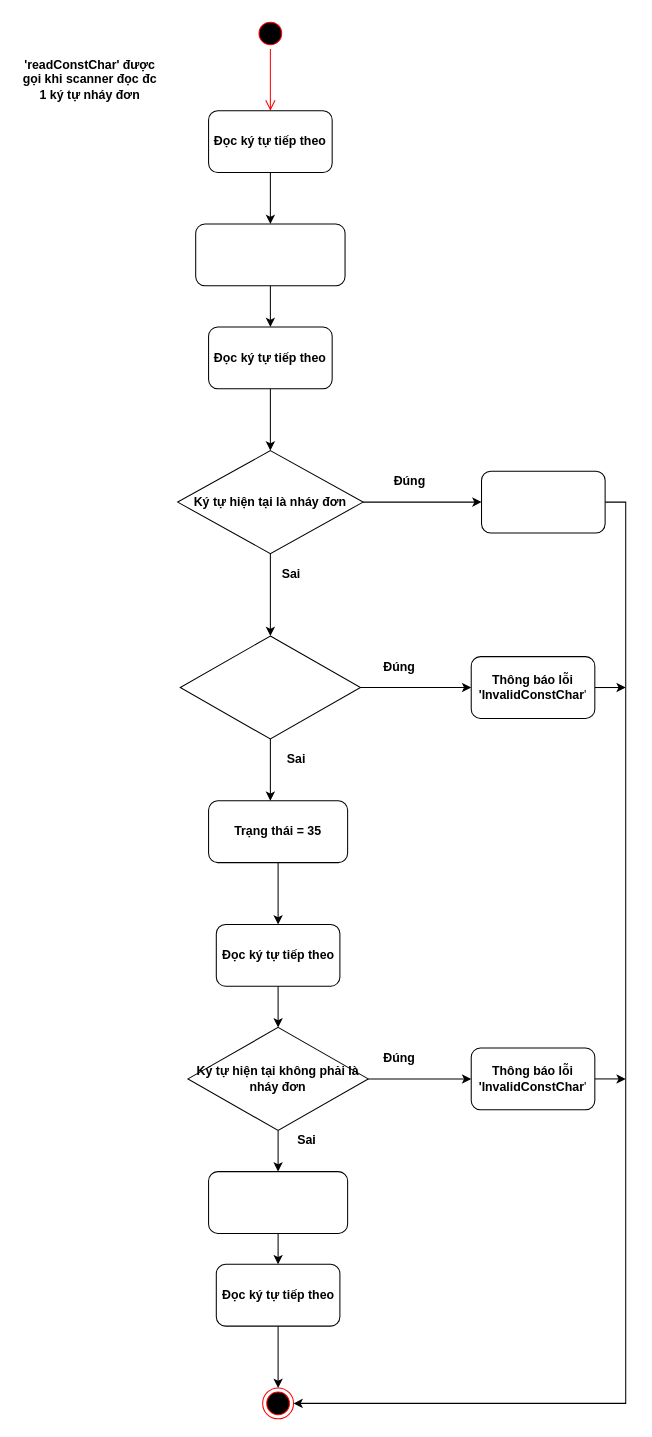
This 652x1437 diagram has some shape labels left out. The shapes that lost their labels are listed below. From the top down, each one's centre as x and y in pixels, then its label:
At point (270, 254): "Khởi tạo trạng thái = 34".
At point (542, 501): "Trả về null".
At point (269, 687): "Ký tự hiện tại là ký tự kết thúc".
At point (278, 1202): "Trạng thái = 36".
